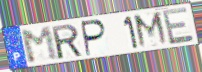1: (122, 15, 140, 50)
E: (160, 5, 196, 46)
M: (19, 25, 61, 65), (131, 10, 170, 50)
P: (81, 18, 108, 58)
R: (50, 23, 84, 61)
